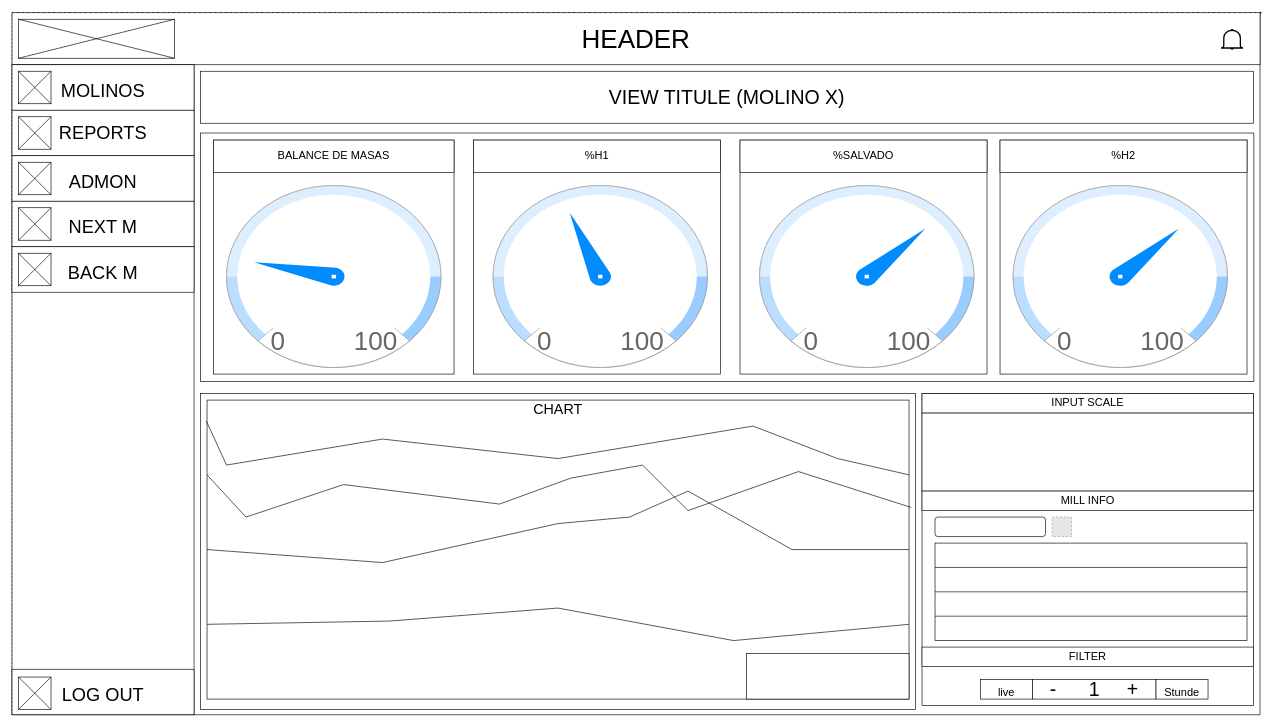
The diagram is 1274 pixels wide and 727 high, and some of its shapes have lost their labels. Grey dashed boxes stand in for pictures. The centre of each missing label's shape, as x and y in pixels:
8.88 t/h: the point at 1087,451
image: the point at 96,38
NAV: the point at 102,389
Nota: Real time o Historie: the point at 827,676
SEARCH . . .: the point at 990,526
